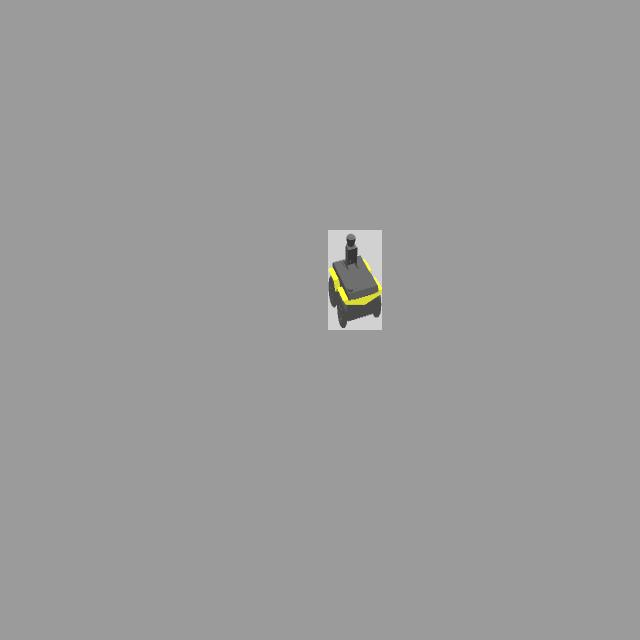jackal: (328, 230, 382, 330)
